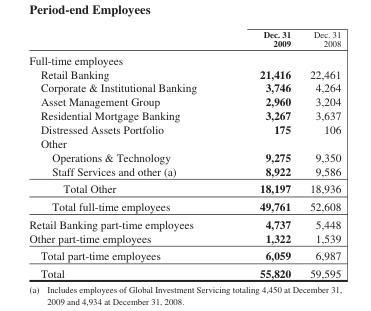table: (28, 28, 340, 279)
table column: (28, 28, 227, 279), (227, 28, 299, 279), (299, 28, 340, 279)
table column header: (28, 28, 340, 50)
table projected row header: (28, 50, 340, 66), (28, 136, 340, 149)
table row: (28, 28, 340, 50), (28, 179, 340, 197), (28, 246, 340, 264), (28, 197, 340, 214), (28, 50, 340, 66), (28, 163, 340, 179), (28, 214, 340, 230), (28, 230, 340, 246), (28, 264, 340, 279), (28, 66, 340, 80), (28, 80, 340, 94), (28, 94, 340, 108), (28, 108, 340, 122), (28, 122, 340, 136), (28, 149, 340, 163), (28, 136, 340, 149)
